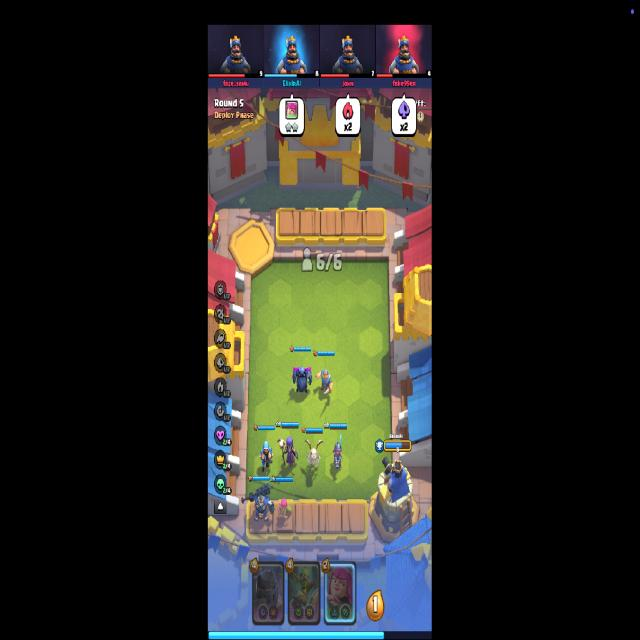card_goblin_machine: (288, 559, 320, 625)
